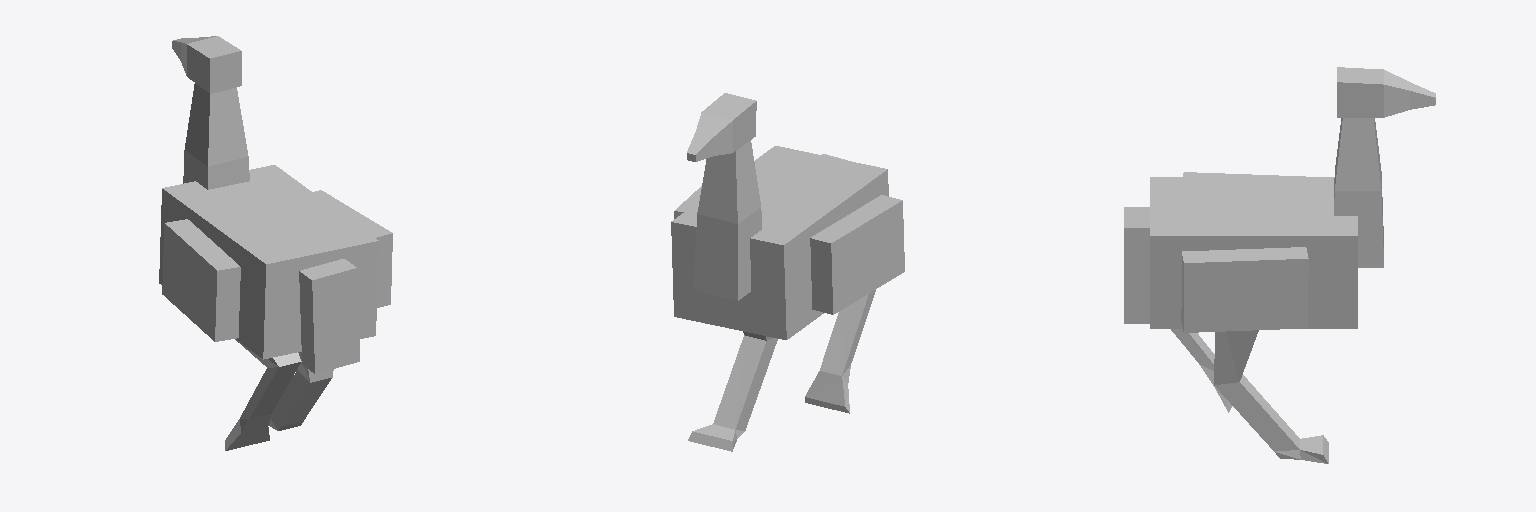
The model's file is Ostrich_000190.obj.
3 renders of one model, left to right at view 1: azimuth 30°, elevation 25°; view 2: azimuth 150°, elevation 25°; view 3: azimuth 270°, elevation 25°, orthographic.
Parts seen in each view (by area): view 1: Cube_Cube.001; view 2: Cube_Cube.001; view 3: Cube_Cube.001.
Part boxes in pixels (bbox=[...]): Cube_Cube.001: bbox=[159, 36, 392, 450]; Cube_Cube.001: bbox=[671, 93, 904, 451]; Cube_Cube.001: bbox=[1124, 67, 1435, 463].
Size of the model in its own units: 0.7892 by 1.53 by 1.2.